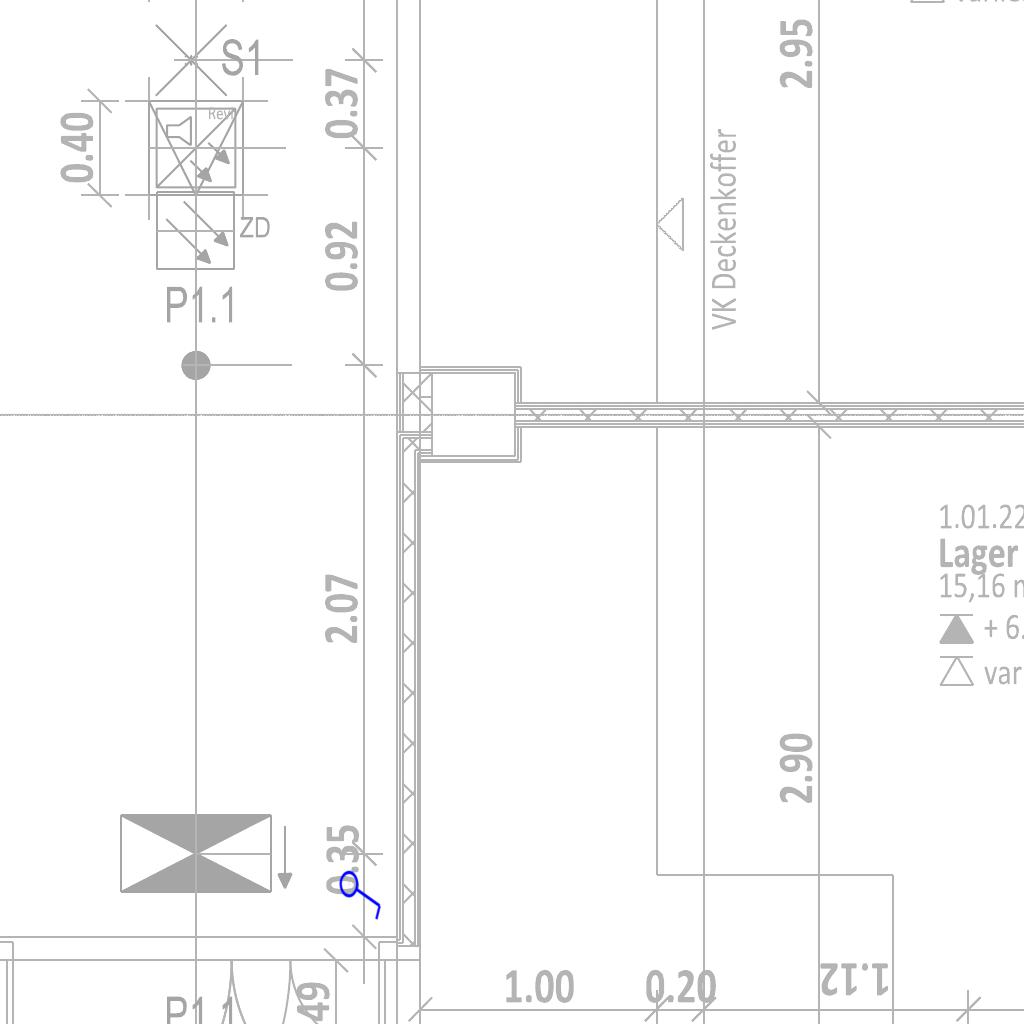Ausschalter: (338, 865, 386, 921)
